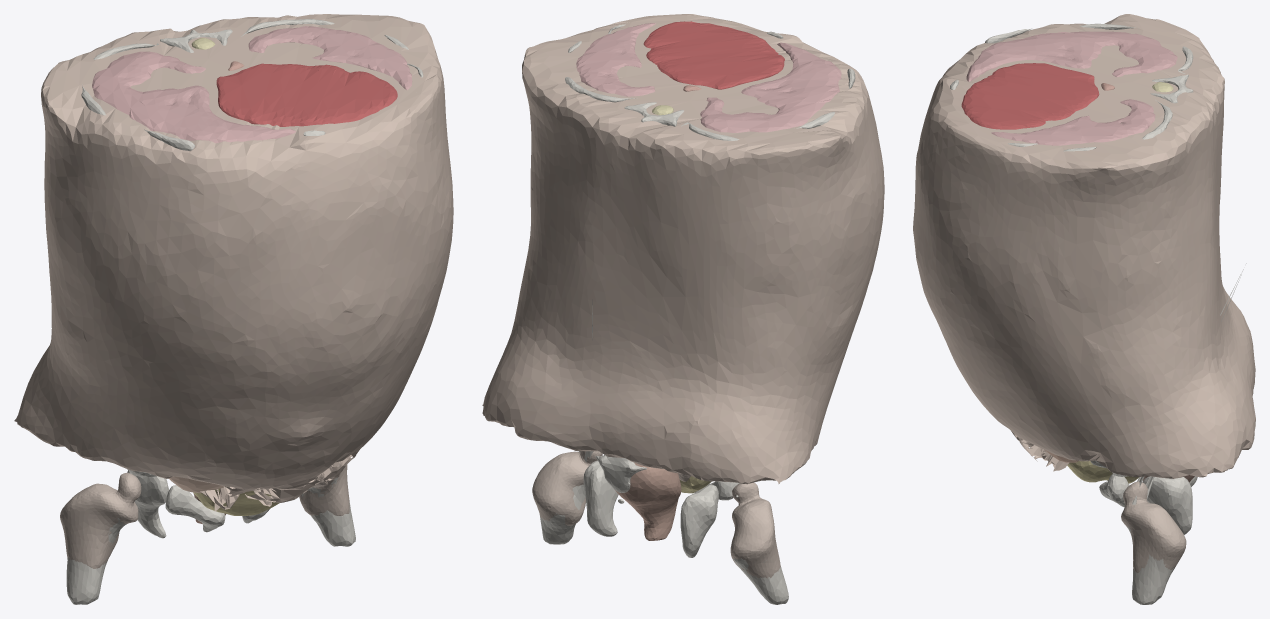
The model's file is peds-infant.glb.
The picture shows the model from 3 angles, left to right: view 1: azimuth 30°, elevation 25°; view 2: azimuth 150°, elevation 25°; view 3: azimuth 270°, elevation 25°; orthographic projection. The views are drawn at different scales.
Parts seen in each view (by area): view 1: skin, heart, bones, lung_r, femur_head_r, lung_l, femur_head_l, bladder; view 2: skin, bones, heart, lung_r, femur_head_r, lung_l, femur_head_l, rectum; view 3: skin, heart, bones, lung_r, femur_head_l, lung_l, bladder.
Part boxes in pixels (bbox=[...]): skin: bbox=[14, 14, 453, 511]; heart: bbox=[216, 63, 397, 126]; bones: bbox=[66, 19, 423, 604]; lung_r: bbox=[92, 51, 295, 143]; femur_head_r: bbox=[60, 473, 141, 568]; lung_l: bbox=[248, 26, 412, 89]; femur_head_l: bbox=[299, 464, 349, 515]; bladder: bbox=[193, 488, 279, 515]; skin: bbox=[482, 14, 884, 484]; bones: bbox=[539, 24, 855, 604]; heart: bbox=[643, 21, 784, 89]; lung_r: bbox=[700, 42, 841, 132]; femur_head_r: bbox=[730, 482, 780, 578]; lung_l: bbox=[576, 23, 655, 96]; femur_head_l: bbox=[532, 451, 602, 525]; rectum: bbox=[614, 462, 681, 540]; skin: bbox=[913, 14, 1255, 478]; heart: bbox=[961, 63, 1099, 129]; bones: bbox=[950, 23, 1246, 604]; lung_r: bbox=[966, 31, 1177, 81]; femur_head_l: bbox=[1121, 481, 1186, 572]; lung_l: bbox=[991, 99, 1155, 145]; bladder: bbox=[1067, 461, 1138, 483].
Size of the model in its own units: 0.1664 by 0.2314 by 0.1553.
